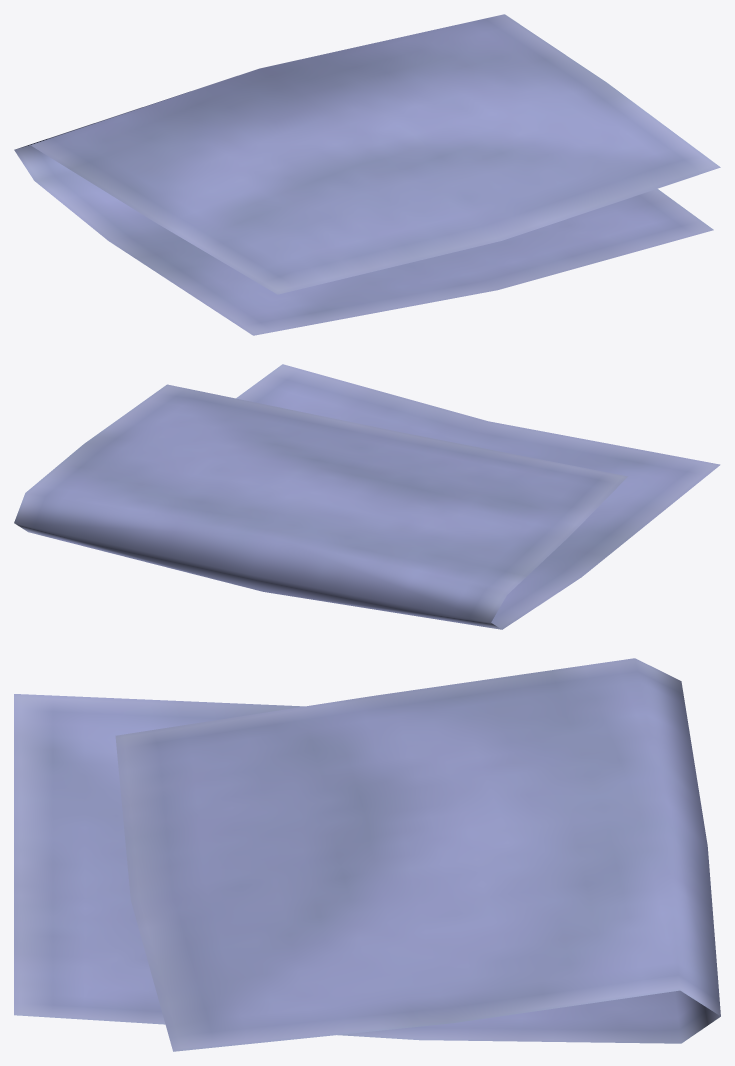
File: jsf_DustCloth02_b.fbx
3 renders of one model, top to bottom at view 1: azimuth 30°, elevation 25°; view 2: azimuth 150°, elevation 25°; view 3: azimuth 270°, elevation 25°, orthographic. The views are drawn at different scales.
Parts seen in each view (by area): view 1: jsf_DustCloth02_b; view 2: jsf_DustCloth02_b; view 3: jsf_DustCloth02_b.
Boxes of the visible parts, x1,y1,x2,y2 form: jsf_DustCloth02_b: (14, 14, 720, 335); jsf_DustCloth02_b: (14, 364, 720, 629); jsf_DustCloth02_b: (14, 658, 720, 1051).
Size of the model in its own units: 17.56 by 2.27 by 14.76.
